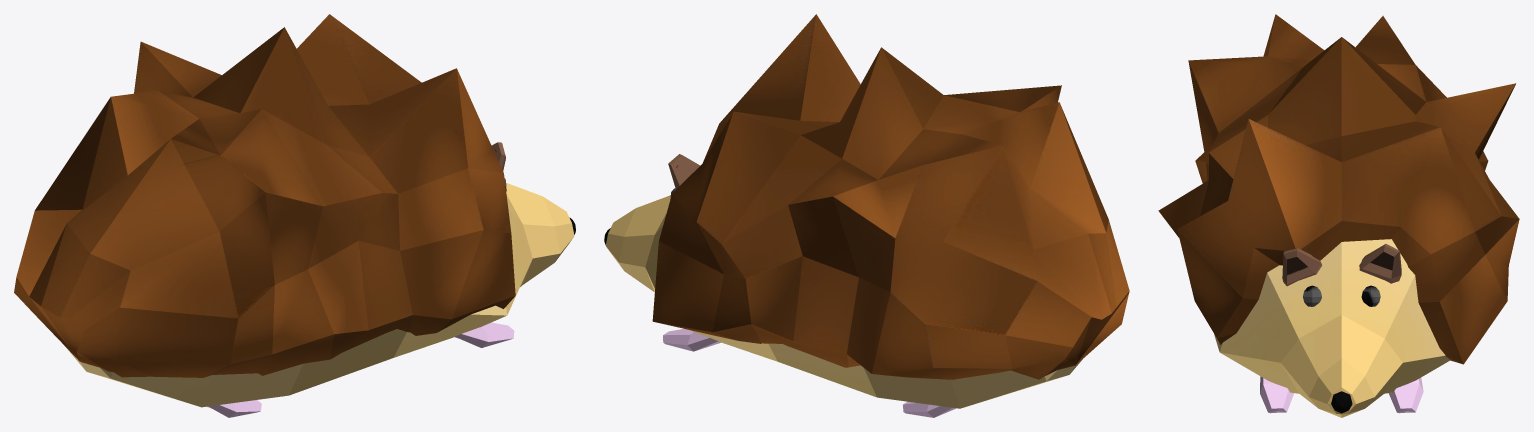
File: Low_Poly_Hedgehog.glb
3 renders of one model, left to right at view 1: azimuth 30°, elevation 25°; view 2: azimuth 150°, elevation 25°; view 3: azimuth 270°, elevation 25°, orthographic. The views are drawn at different scales.
Parts seen in each view (by area): view 1: defaultMaterial (×4); view 2: defaultMaterial (×5); view 3: defaultMaterial (×7).
Boxes of the visible parts, x1=… form: defaultMaterial (×4): x1=14, y1=14, x2=574, y2=417; defaultMaterial (×5): x1=605, y1=14, x2=1129, y2=417; defaultMaterial (×7): x1=1158, y1=14, x2=1519, y2=417.
Size of the model in its own units: 0.6948 by 0.4245 by 0.4523.
Materials: 6 (6 with a texture image).
